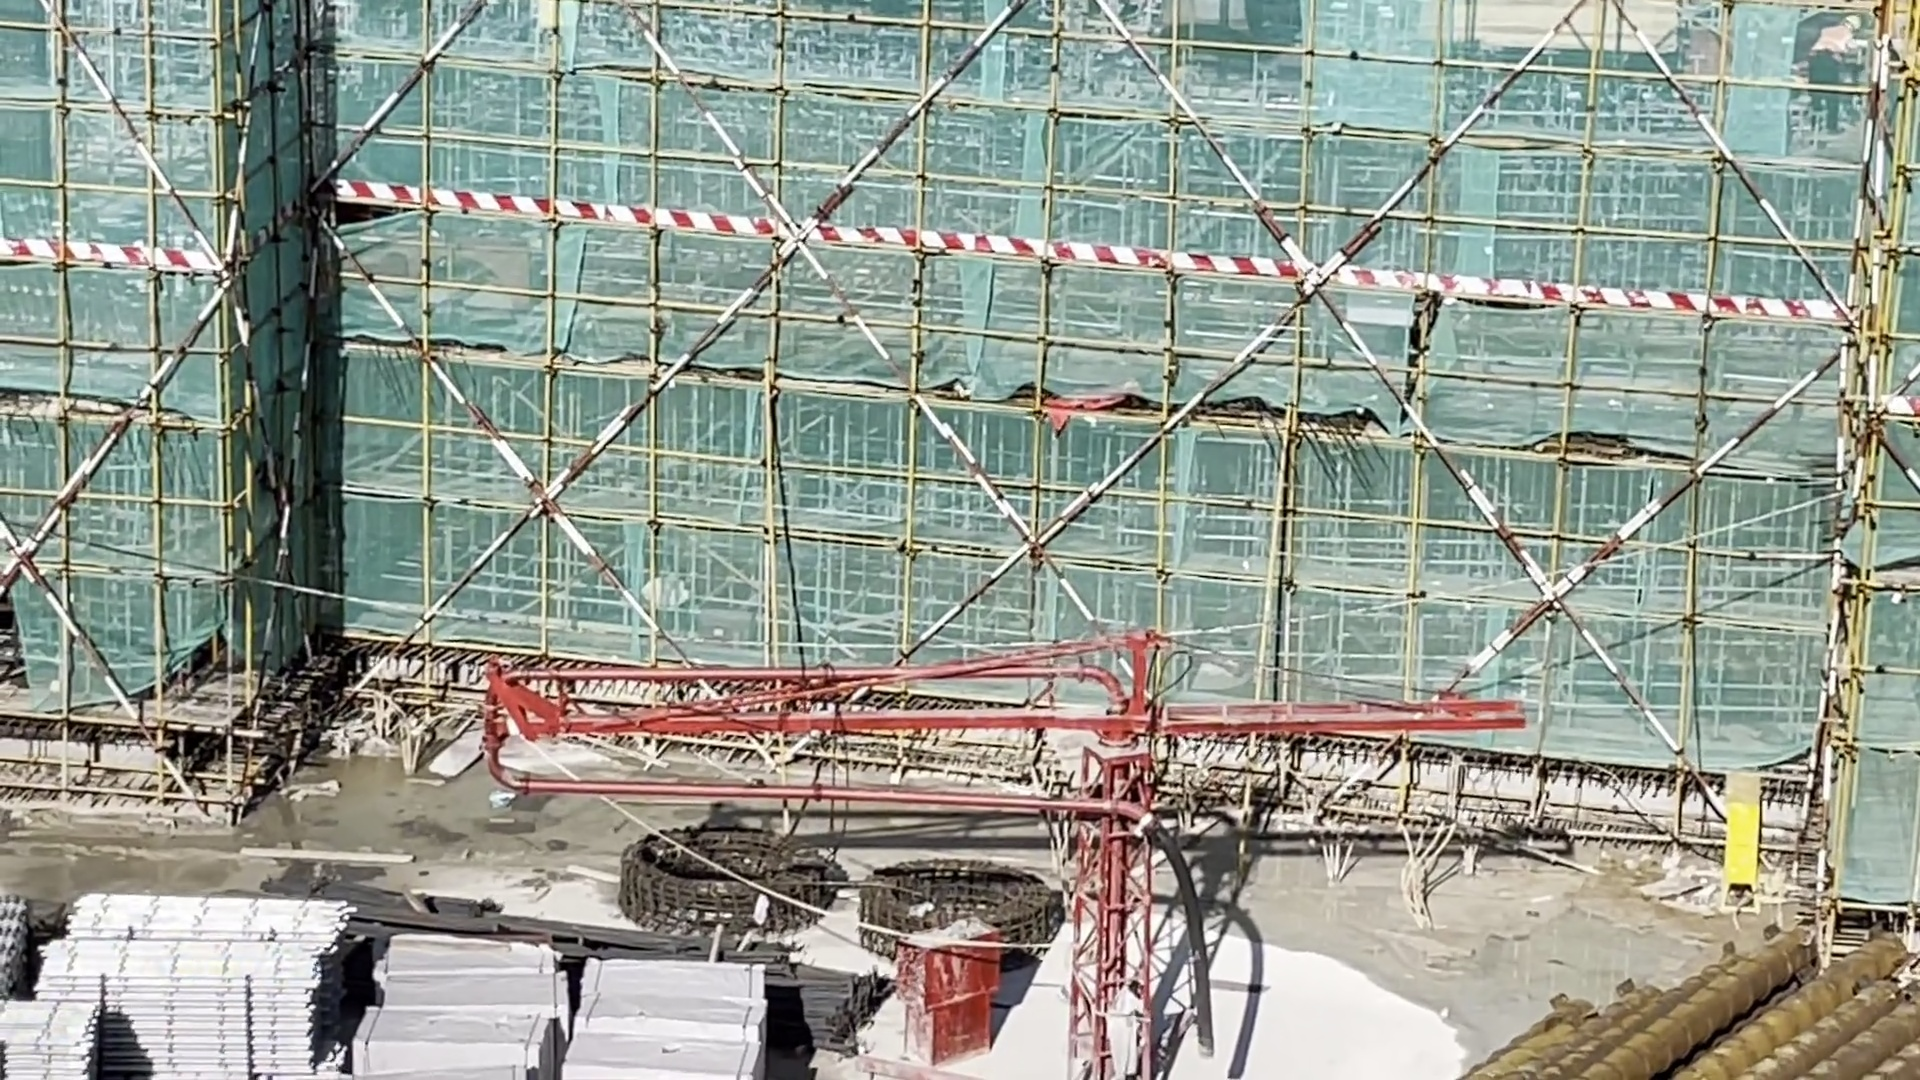ebox: (1713, 771, 1788, 907)
rebar: (1461, 903, 1920, 1077), (556, 919, 786, 964), (322, 878, 483, 930), (786, 953, 856, 1052)
scaffold: (74, 895, 349, 1064), (18, 984, 109, 1072), (1, 918, 18, 986)
